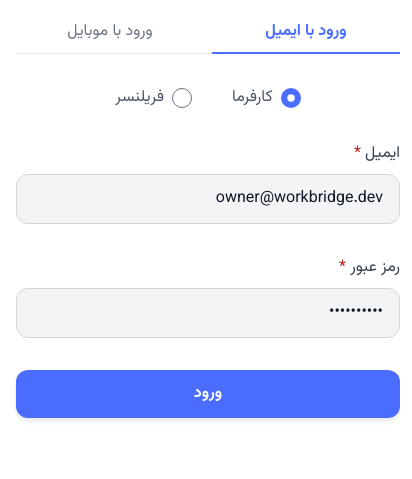
Scenario: AuthContainer › shows the code error and sends nothing for an incomplete code
Click the tab "ورود با موبایل": coordinates (110, 33) [16,12,204,54]
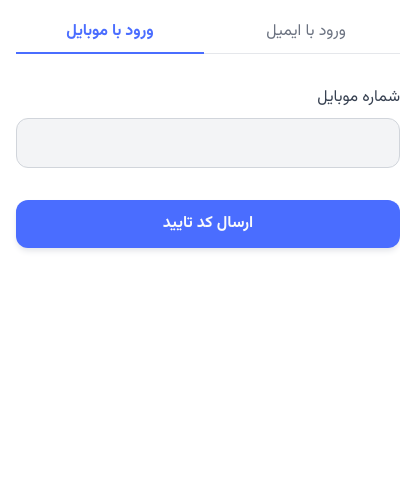
In the field labelled "شماره موبایل": coordinates (208, 143) [16,118,400,168], type "09120000001"
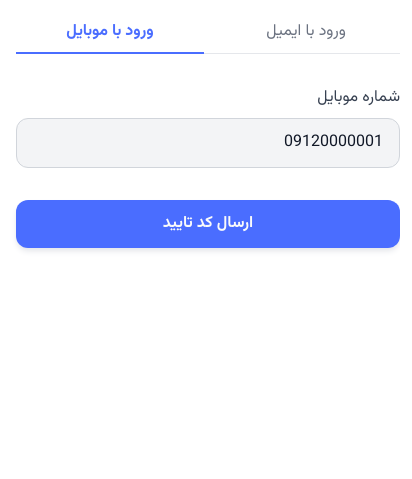
Click the button "ارسال کد تایید": coordinates (208, 224) [16,200,400,248]
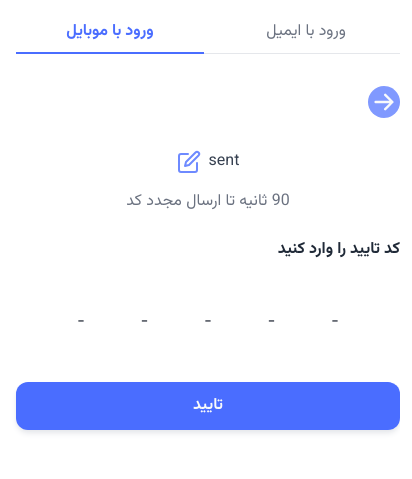
Expected: the text "کد تایید را وارد کنید" is shown, [278,237,400,262]
Click the button "تایید": coordinates (208, 406) [16,382,400,430]
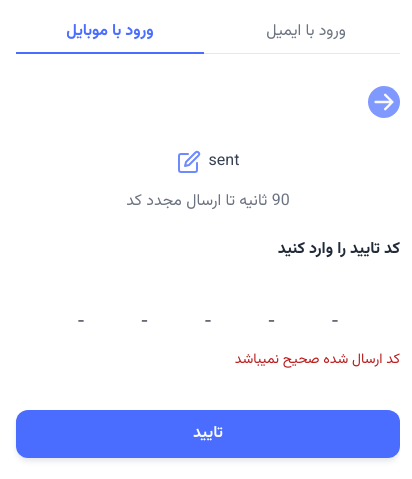
Expected: the text "کد ارسال شده صحیح نمیباشد" is shown, [235,349,400,371]
